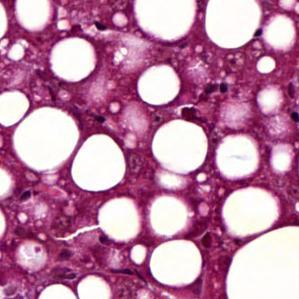steatosis: (13, 109, 80, 173), (150, 118, 209, 174), (72, 135, 126, 195), (150, 238, 203, 287), (214, 135, 263, 178), (139, 63, 179, 106)
